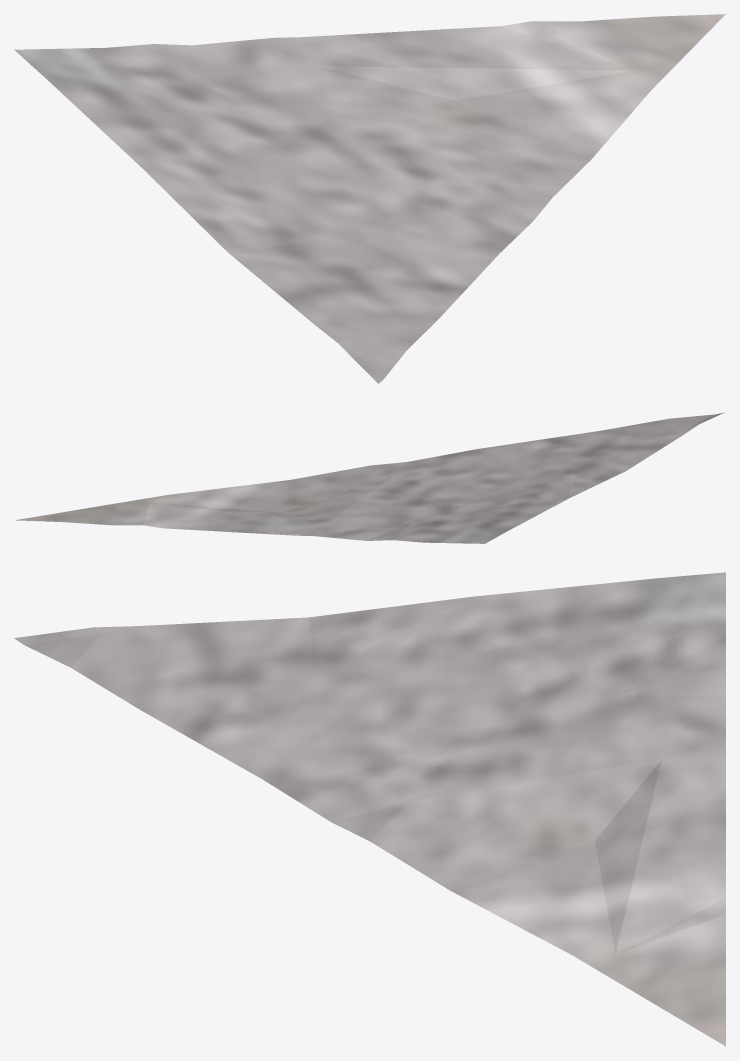
3 renders of one model, top to bottom at view 1: azimuth 30°, elevation 25°; view 2: azimuth 150°, elevation 25°; view 3: azimuth 270°, elevation 25°, orthographic. The views are drawn at different scales.
Bounding box in the file's own units: 0.8509 × 0.1578 × 0.7544.
1 material, 1 textured.
